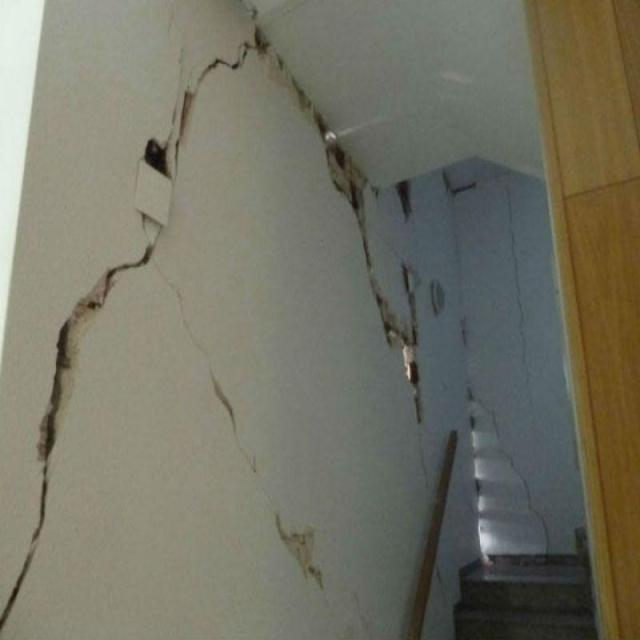crack: (0, 27, 371, 632)
